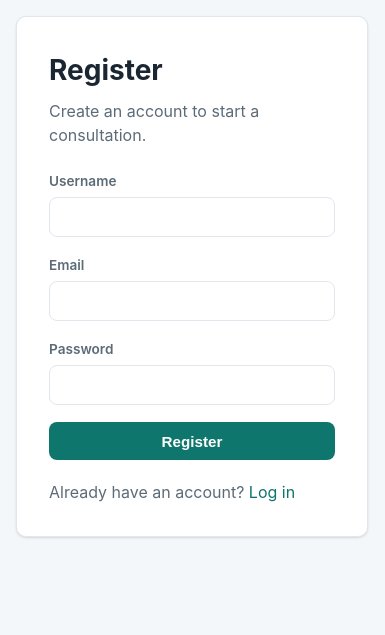
failed registration shows an error message
This screenshot has width=385, height=635.
Type "alice" into the field labelled "Username".
click(192, 217); type("alice")  # box [49,197,335,237]
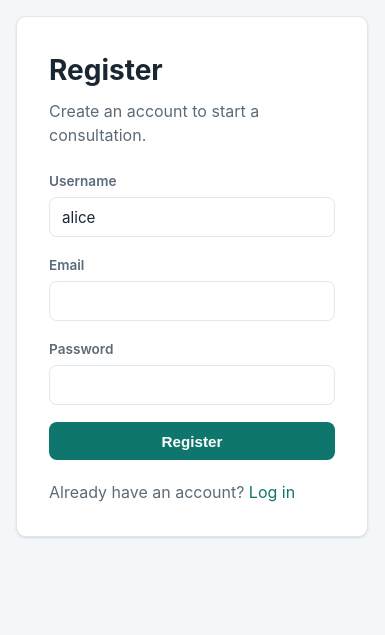
Type "pass123" into the password field labelled "Password".
click(192, 385); type("pass123")  # box [49,364,335,405]
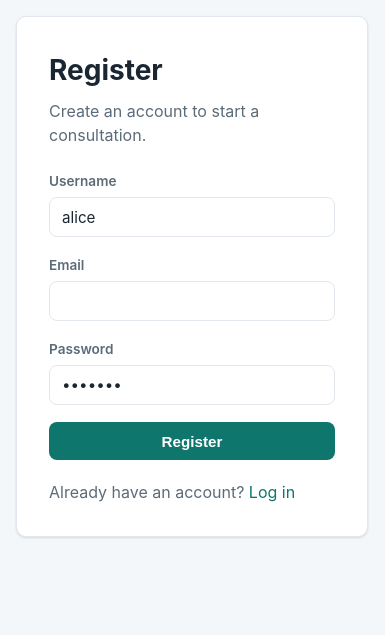
Click the button "Register".
click(192, 441)  # box [49,422,335,460]
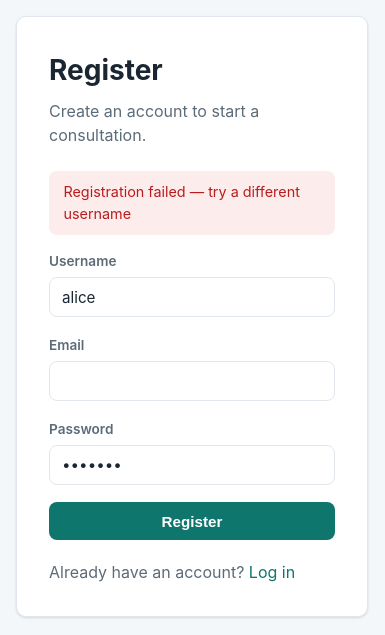
Now the text "Registration failed — try a different username" is shown, box [49,171,335,235]
